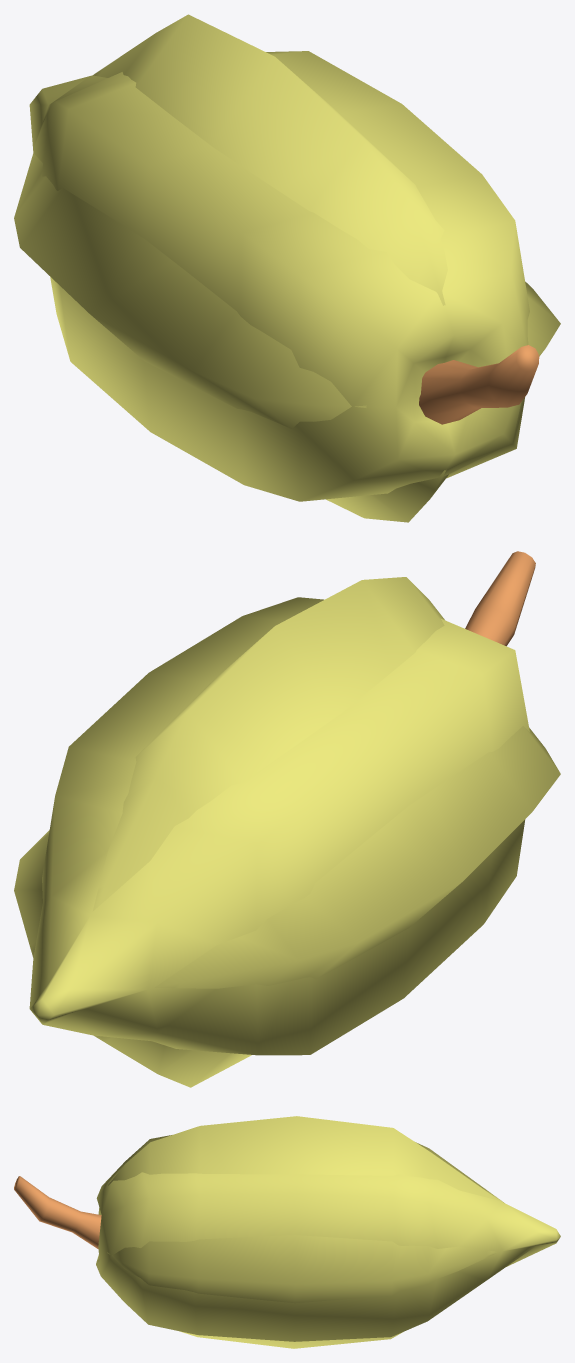
Rendered from Starfruit.fbx.
3 views of the same model, one above another, from view 1: azimuth 30°, elevation 25°; view 2: azimuth 150°, elevation 25°; view 3: azimuth 270°, elevation 25° (orthographic). The views are drawn at different scales.
Parts seen in each view (by area): view 1: StarFruitB2; view 2: StarFruitB2; view 3: StarFruitB2.
Boxes of the visible parts, x1,y1,x2,y2 form: StarFruitB2: (14,14,560,522); StarFruitB2: (14,551,560,1087); StarFruitB2: (14,1116,560,1348).
Bounding box in the file's own units: 134 × 143 × 304.
